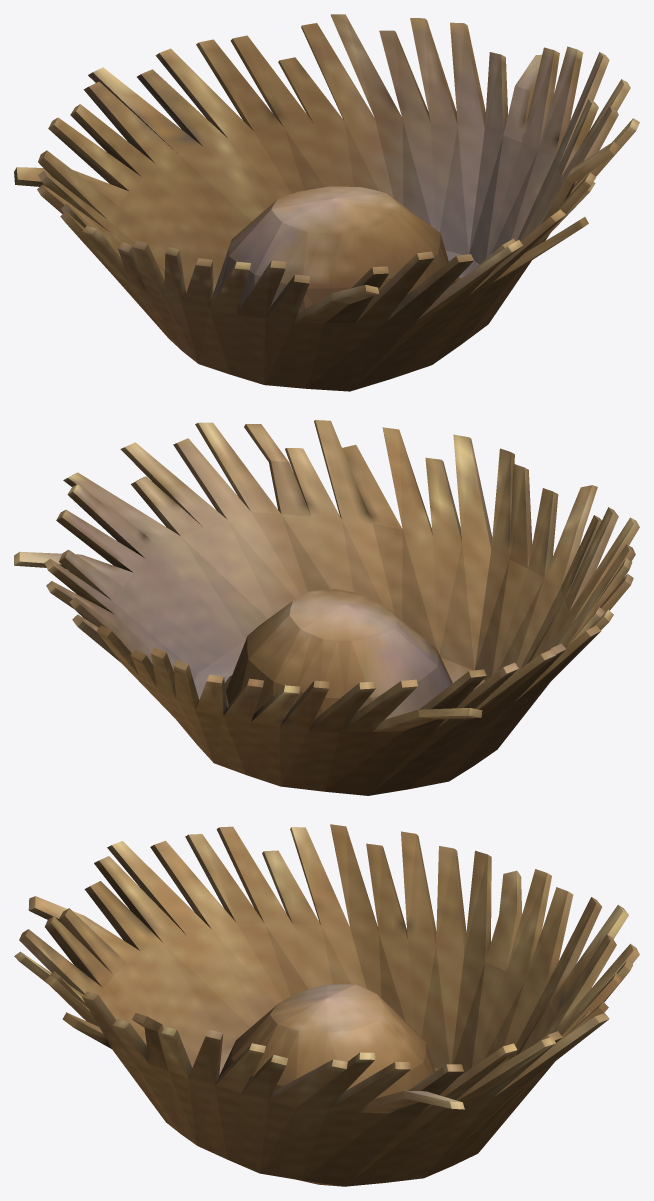
The model's file is BEACH STRAW HAT.fbx.
3 renders of one model, top to bottom at view 1: azimuth 30°, elevation 25°; view 2: azimuth 150°, elevation 25°; view 3: azimuth 270°, elevation 25°, orthographic. The views are drawn at different scales.
Parts seen in each view (by area): view 1: BEACH_STRAW_HAT; view 2: BEACH_STRAW_HAT; view 3: BEACH_STRAW_HAT.
Boxes of the visible parts, left/top/right/bottom form: BEACH_STRAW_HAT: left=14, top=14, right=639, bottom=391; BEACH_STRAW_HAT: left=14, top=420, right=639, bottom=795; BEACH_STRAW_HAT: left=14, top=824, right=639, bottom=1186.
Size of the model in its own units: 61.66 by 23.62 by 60.15.
